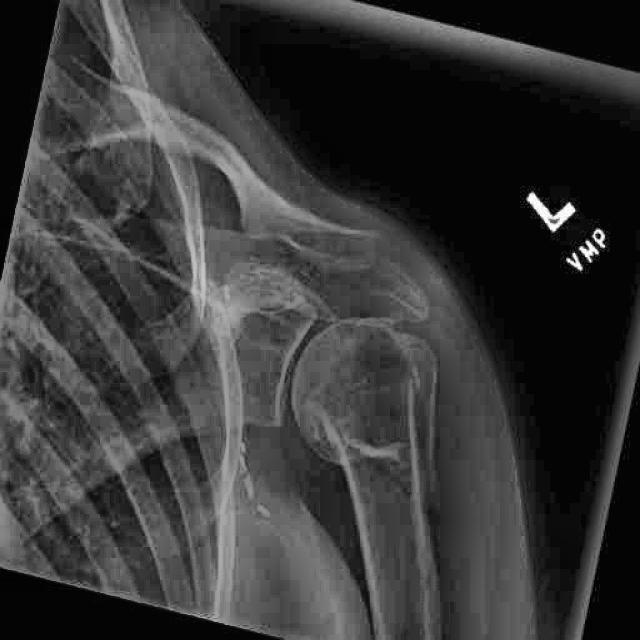shoulder fracture: (287, 397, 399, 491)
